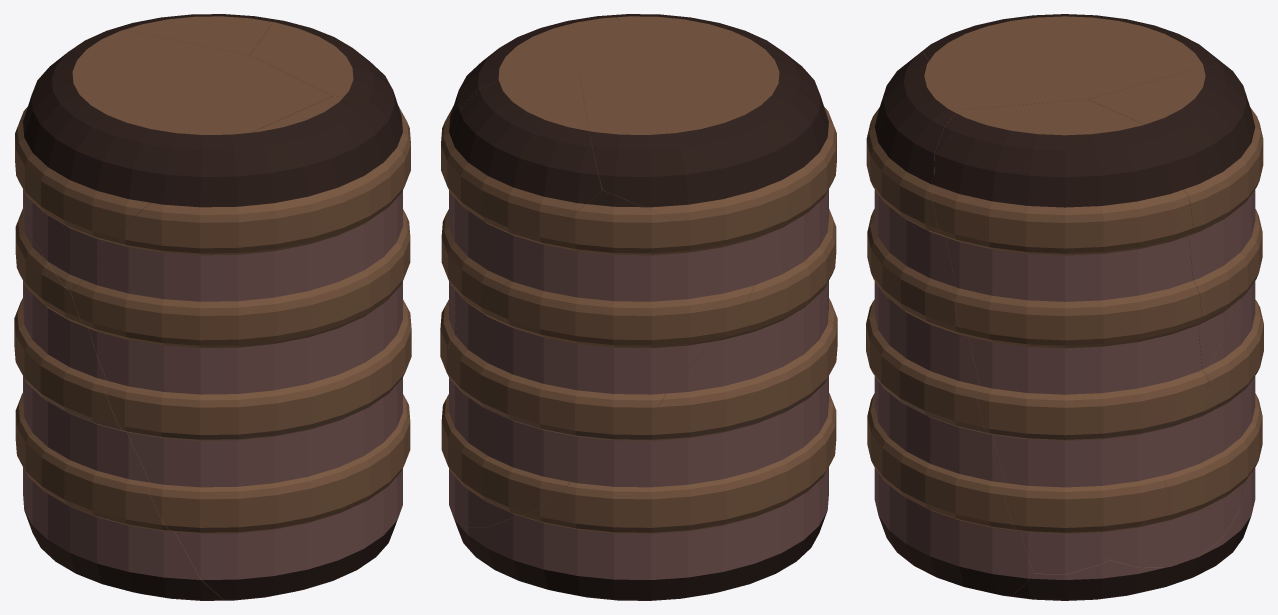
Rendered from barril.fbx.
3 views of the same model, side by side, from view 1: azimuth 30°, elevation 25°; view 2: azimuth 150°, elevation 25°; view 3: azimuth 270°, elevation 25° (orthographic).
Visible parts, largest first — view 1: barril_cell.005, barril_cell.001, barril_cell, barril_cell.002, barril_cell.004; view 2: barril_cell, barril_cell.003, barril_cell.001, barril_cell.004, barril_cell.002, barril_cell.005; view 3: barril_cell.002, barril_cell.005, barril_cell.004, barril_cell.001, barril_cell.003, barril_cell.
Part boxes in pixels (box(x1,y1,x2,y2)): barril_cell.005: box(71, 96, 411, 599); barril_cell.001: box(15, 29, 332, 291); barril_cell: box(14, 226, 244, 600); barril_cell.002: box(250, 20, 410, 317); barril_cell.004: box(103, 14, 277, 55); barril_cell: box(451, 257, 837, 600); barril_cell.003: box(441, 190, 765, 527); barril_cell.001: box(579, 21, 836, 267); barril_cell.004: box(444, 72, 602, 353); barril_cell.002: box(440, 15, 619, 416); barril_cell.005: box(607, 14, 837, 397); barril_cell.002: box(932, 99, 1209, 574); barril_cell.005: box(866, 51, 1033, 595); barril_cell.004: box(1088, 66, 1263, 386); barril_cell.001: box(923, 14, 1237, 109); barril_cell.003: box(1109, 107, 1263, 567); barril_cell: box(1002, 393, 1262, 600).
Size of the model in its own units: 340 by 431 by 340.
